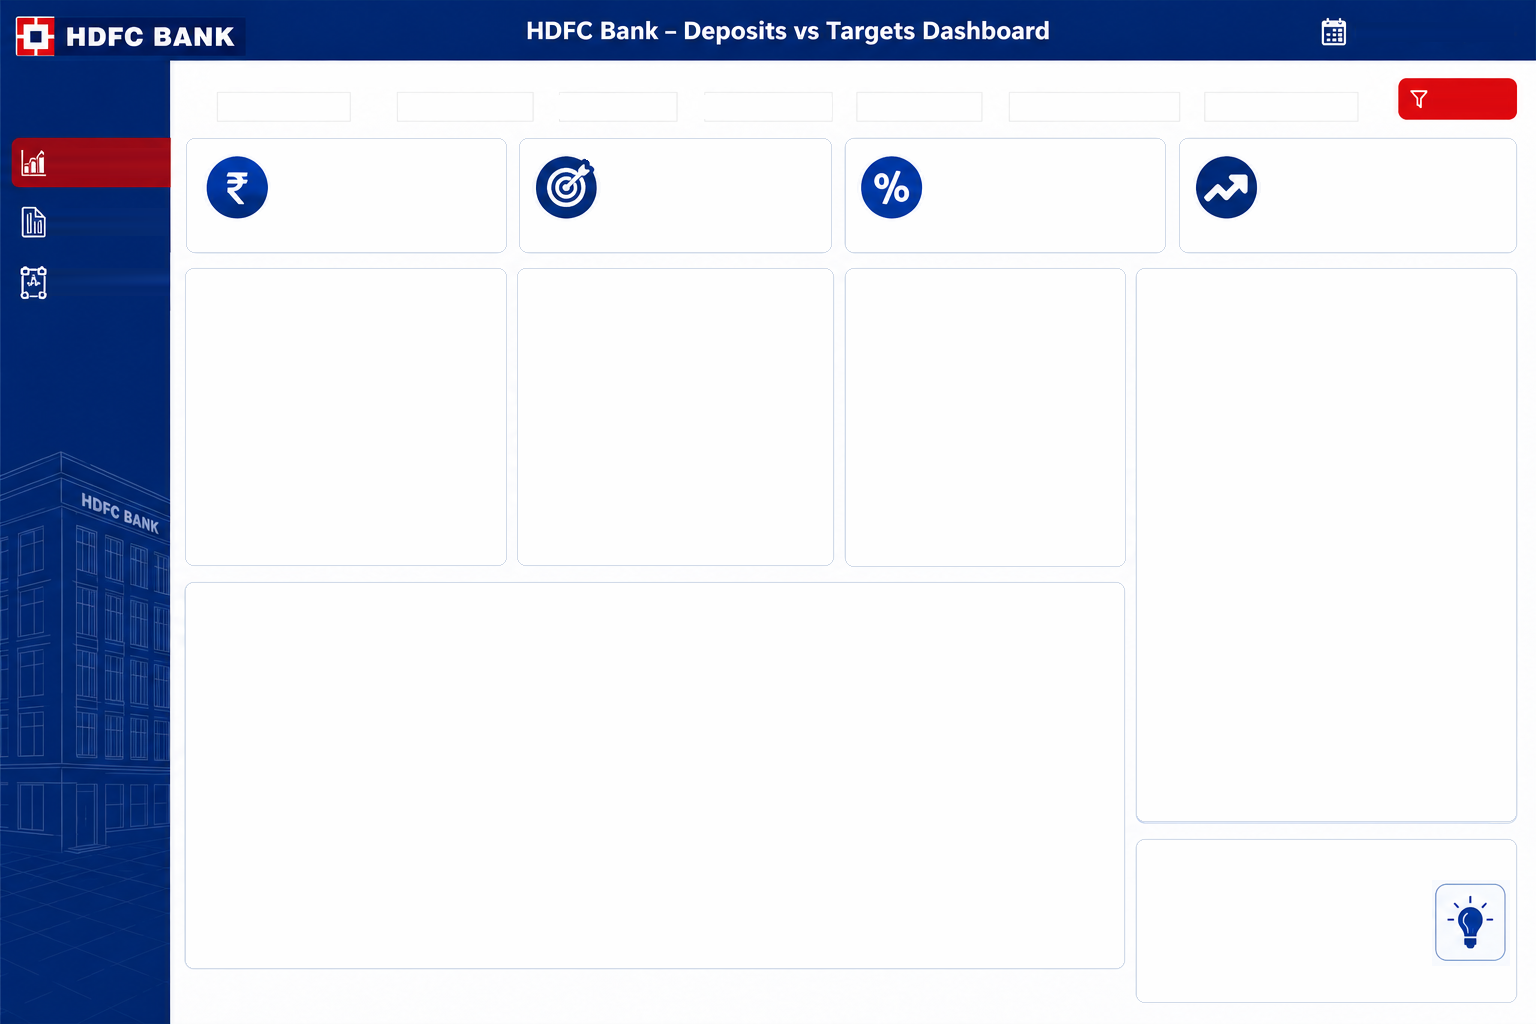

The dashboard page shown, as its layout file describes it:
{"tool":"powerbi","page":{"name":"Deposits vs Targets","canvas":[2560,1440],"ordinal":0},"visuals":[{"type":"pageNavigator","box":[71.9,182,227.5,253.9],"z":0},{"type":"slicer","fields":{"Values":["DimDate.FinancialYear"]},"box":[349.7,88.6,244.3,93.4],"z":1000},{"type":"slicer","fields":{"Values":["DimDate.FY Quarter"]},"box":[651.5,91,244.3,93.4],"z":2000},{"type":"slicer","fields":{"Values":["DimDate.Month Sort"]},"box":[912.6,88.6,225.2,93.4],"z":3000},{"type":"slicer","fields":{"Values":["DimBranch.Region"]},"box":[1156.9,91,234.7,93.4],"z":4000},{"type":"slicer","fields":{"Values":["DimBranch.Zone"]},"box":[1418,88.6,225.2,93.4],"z":5000},{"type":"slicer","fields":{"Values":["DimBranch.BranchName"]},"box":[1679,88.6,292.2,93.4],"z":6000},{"type":"slicer","fields":{"Values":["DimProduct.ProductName"]},"box":[2004.8,88.6,261.1,93.4],"z":7000},{"type":"cardVisual","fields":{"Data":["MeasureTable.Total Deposits Cr"]},"box":[438.3,138.9,404.8,213.2],"z":8000,"group":"g2"},{"type":"cardVisual","fields":{"Data":["MeasureTable.Deposit Target Cr"]},"box":[986.8,138.9,404.8,213.2],"z":9000,"group":"g1"},{"type":"cardVisual","fields":{"Data":["MeasureTable.YoY Growth %"]},"box":[2119.8,136.5,404.8,227.5],"z":10000,"group":"g4"},{"type":"cardVisual","fields":{"Data":["MeasureTable.Achievement %"]},"box":[1556.9,136.5,414.4,227.5],"z":11000,"group":"g3"},{"type":"cardVisual","fields":{"Data":["MeasureTable.Sub Deposits"]},"box":[428.7,292.2,467.1,71.9],"z":12000,"group":"g2"},{"type":"cardVisual","fields":{"Data":["MeasureTable.Sub Target"]},"box":[1068.2,292.2,323.4,71.9],"z":13000,"group":"g1"},{"type":"cardVisual","fields":{"Data":["MeasureTable.Sub Achievement"]},"box":[1556.9,292.2,378.4,71.9],"z":14000,"group":"g3"},{"type":"cardVisual","fields":{"Data":["Min(MeasureTable.Sub YoY)"]},"box":[2158.1,292.2,383.2,71.9],"z":15000,"group":"g4"},{"type":"clusteredColumnChart","title":"Actual Deposits vs Target (Monthly)","fields":{"Category":["DimDate.Month Label"],"Y":["MeasureTable.Total Deposits Cr","MeasureTable.Deposit Target Cr"]},"box":[299.4,383.2,562.9,424],"z":16000},{"type":"lineChart","title":"Deposit Trend (Drill down: Year > Quarter > Month)","fields":{"Category":["DimDate.FY","DimDate.FY Quarter","DimDate.Month Label"],"Y":["MeasureTable.Total Deposits Cr"]},"box":[862.6,364.9,539.9,440.8],"z":17000},{"type":"donutChart","title":"Deposits by Product Type","fields":{"Category":["DimProduct.ProductName"],"Y":["MeasureTable.Total Deposits Cr"]},"box":[1418,383.2,462.3,404.8],"z":18000},{"type":"map","title":"Geographic Deposit Distribution (₹ Cr)","fields":{"Category":["DimBranch.City"],"Size":["MeasureTable.Total Deposits Cr"]},"box":[1899.4,383.2,625.2,771.3],"z":18001},{"type":"pivotTable","fields":{"Rows":["DimBranch.Region","DimBranch.Zone","DimBranch.City","DimBranch.BranchName"],"Values":["MeasureTable.Total Deposits Cr","MeasureTable.Deposit Target Cr","MeasureTable.Variance Cr","MeasureTable.Achievement %","MeasureTable.YoY Growth %"]},"box":[318.5,805.6,1581.7,554.7],"z":18002},{"type":"textbox","box":[1880.2,1209.6,531.7,198.8],"z":18003},{"type":"textbox","box":[1899.4,1178.4,220.4,31.1],"z":18004},{"type":"group","id":"g1","title":"Group 1","box":[986.8,138.9,404.8,225.2],"z":18005,"group":"g2"},{"type":"group","id":"g2","title":"Group 2","box":[428.7,138.9,962.9,225.2],"z":18006},{"type":"group","id":"g3","title":"Group 3","box":[1556.9,136.5,414.4,227.5],"z":18007},{"type":"group","id":"g4","title":"Group 4","box":[2119.8,136.5,421.6,227.5],"z":18008},{"type":"actionButton","box":[2361.7,112.6,179.3,50.6],"z":18009},{"type":"cardVisual","fields":{"Data":["MeasureTable.Data As On"]},"box":[2237.1,0,323.4,86.2],"z":18010}]}

Visuals, with their boxes on the page's 2560x1440 design canvas (x1, y1, x2, y2). These are canvas units, not pixel positions in the 1536x1024 screenshot, which may show the page scaled, cropped or inside an application window:
pageNavigator: box=[72, 182, 299, 436]
slicer - DimDate.FinancialYear: box=[350, 89, 594, 182]
slicer - DimDate.FY Quarter: box=[652, 91, 896, 184]
slicer - DimDate.Month Sort: box=[913, 89, 1138, 182]
slicer - DimBranch.Region: box=[1157, 91, 1392, 184]
slicer - DimBranch.Zone: box=[1418, 89, 1643, 182]
slicer - DimBranch.BranchName: box=[1679, 89, 1971, 182]
slicer - DimProduct.ProductName: box=[2005, 89, 2266, 182]
cardVisual - MeasureTable.Total Deposits Cr: box=[438, 139, 843, 352]
cardVisual - MeasureTable.Deposit Target Cr: box=[987, 139, 1392, 352]
cardVisual - MeasureTable.YoY Growth %: box=[2120, 136, 2525, 364]
cardVisual - MeasureTable.Achievement %: box=[1557, 136, 1971, 364]
cardVisual - MeasureTable.Sub Deposits: box=[429, 292, 896, 364]
cardVisual - MeasureTable.Sub Target: box=[1068, 292, 1392, 364]
cardVisual - MeasureTable.Sub Achievement: box=[1557, 292, 1935, 364]
cardVisual - Min(MeasureTable.Sub YoY): box=[2158, 292, 2541, 364]
"Actual Deposits vs Target (Monthly)" clusteredColumnChart: box=[299, 383, 862, 807]
"Deposit Trend (Drill down: Year > Quarter > Month)" lineChart: box=[863, 365, 1402, 806]
"Deposits by Product Type" donutChart: box=[1418, 383, 1880, 788]
"Geographic Deposit Distribution (₹ Cr)" map: box=[1899, 383, 2525, 1154]
pivotTable - DimBranch.Region x DimBranch.Zone: box=[318, 806, 1900, 1360]
textbox: box=[1880, 1210, 2412, 1408]
textbox: box=[1899, 1178, 2120, 1210]
"Group 1" group: box=[987, 139, 1392, 364]
"Group 2" group: box=[429, 139, 1392, 364]
"Group 3" group: box=[1557, 136, 1971, 364]
"Group 4" group: box=[2120, 136, 2541, 364]
actionButton: box=[2362, 113, 2541, 163]
cardVisual - MeasureTable.Data As On: box=[2237, 0, 2560, 86]
